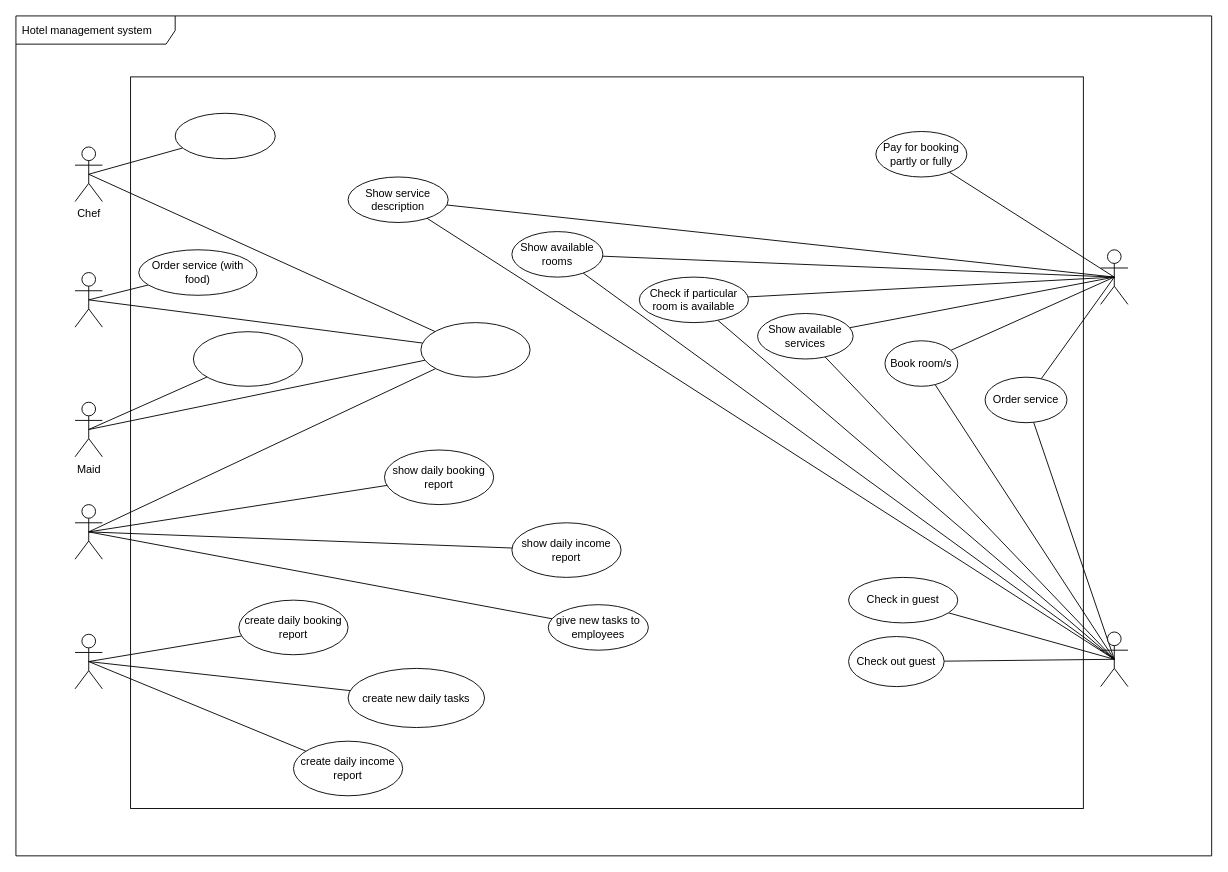
Some shapes in this 1228 by 872 pixel diagram are drawn without their labels. Here are the shapes that lost their labels. From the top down, the centre of each, then its label:
(x=224, y=135): Update menu
(x=1114, y=276): Guest
(x=88, y=299): Waiter
(x=247, y=358): mark room to clean
(x=475, y=349): mark task as done
(x=88, y=531): Manager
(x=88, y=661): Time subsystem "every day"
(x=1114, y=659): Porter
